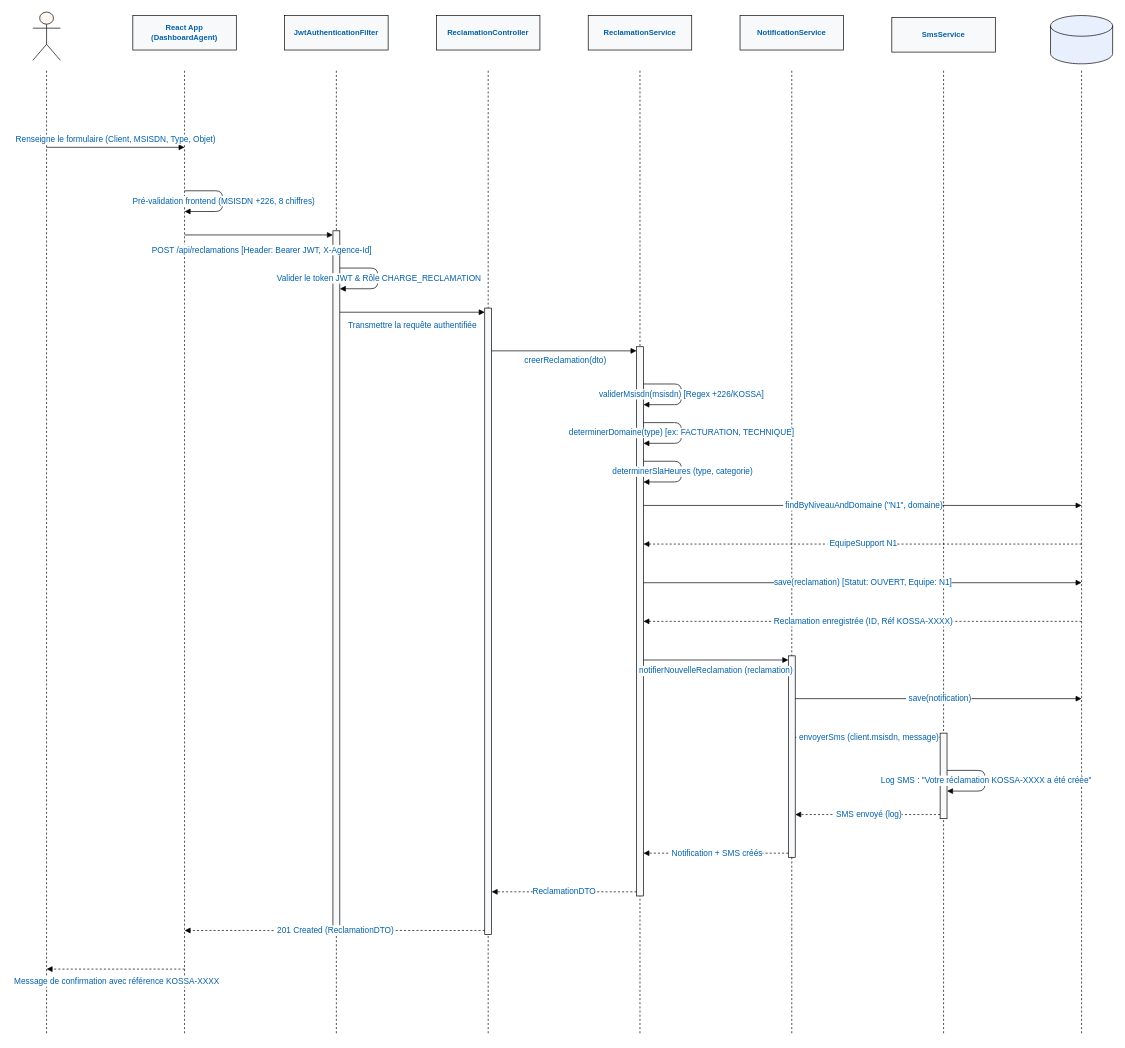
The diagram is 1125 pixels wide and 1048 high, and some of its shapes have lost their labels. Each missing label, with the centre of its shape:
"Agent Support" goes at pixel 46 35.
"PostgreSQL" goes at pixel 1081 39.
